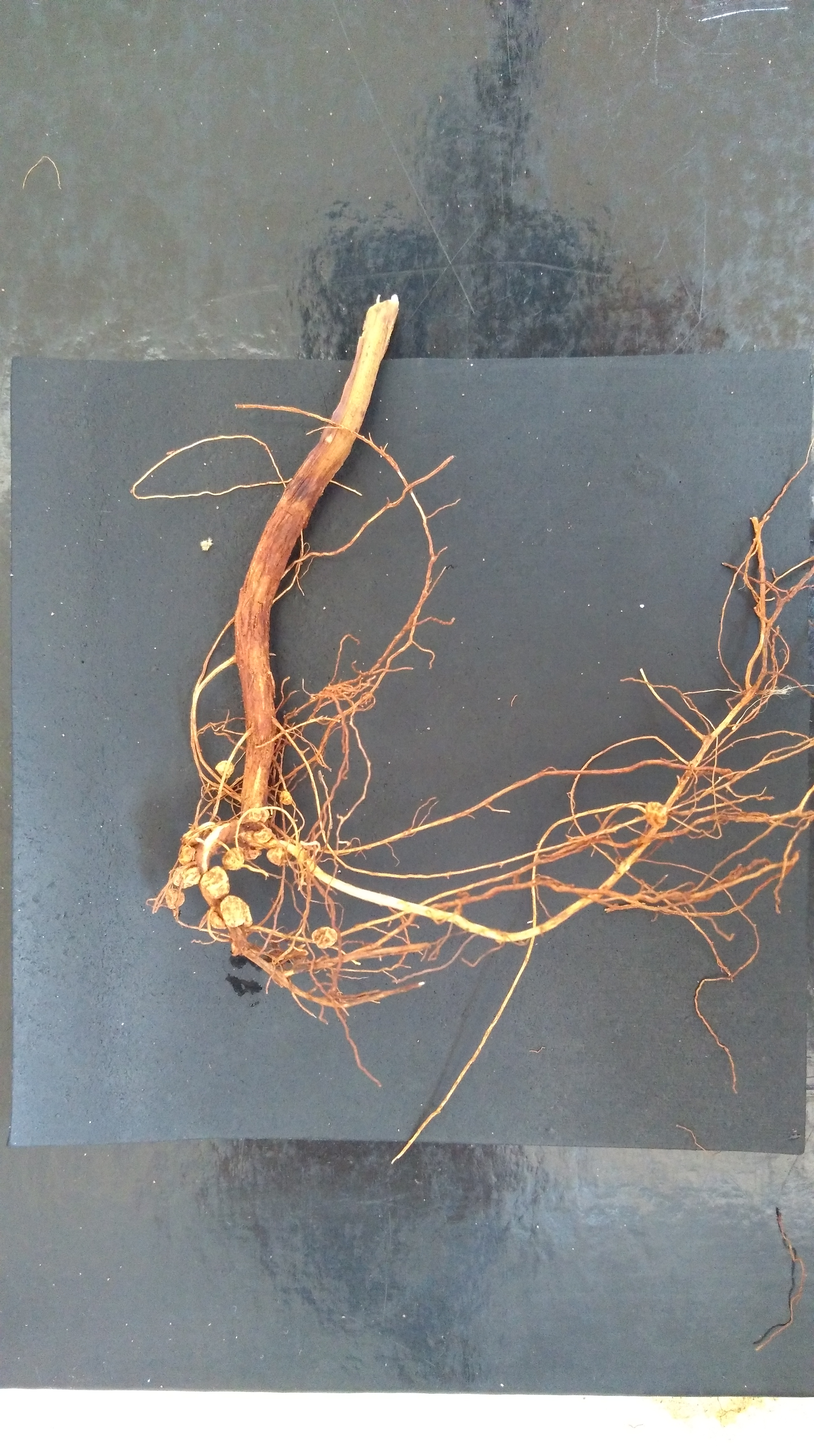nodule: (218, 893, 255, 929), (200, 864, 232, 900), (643, 800, 669, 830), (171, 865, 201, 889), (310, 926, 338, 949), (221, 846, 245, 872), (265, 846, 293, 867), (164, 887, 187, 910), (177, 844, 197, 866), (214, 759, 235, 779), (252, 826, 274, 844), (208, 910, 226, 930), (278, 790, 295, 806), (242, 847, 262, 860)
